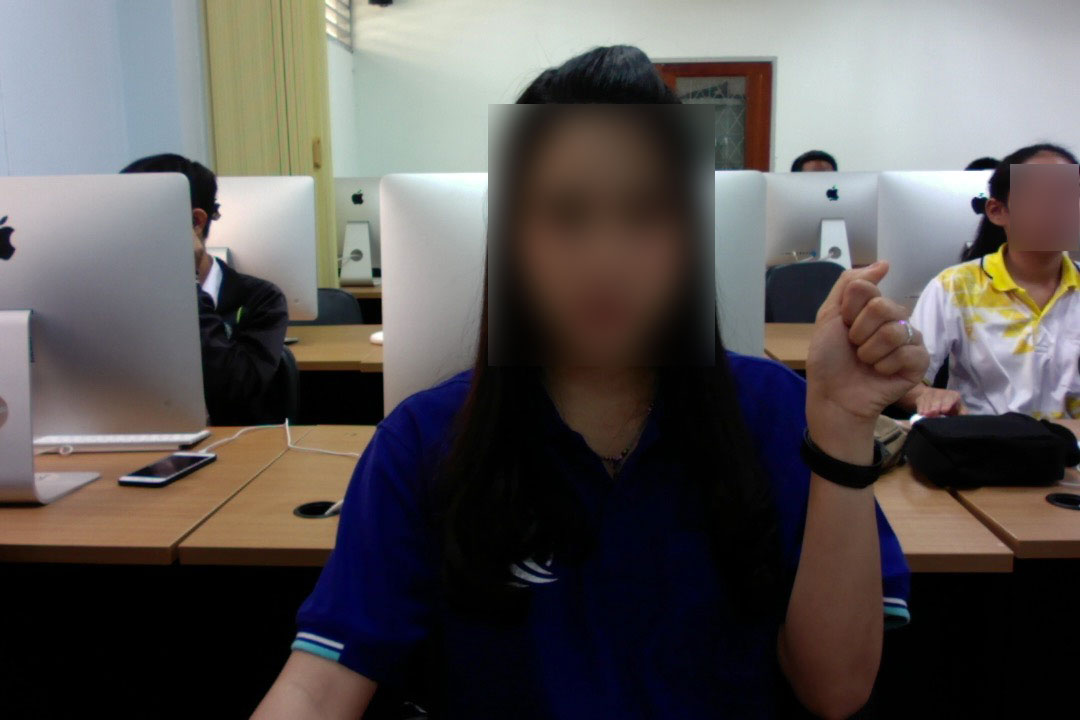or: (801, 247, 933, 460)
